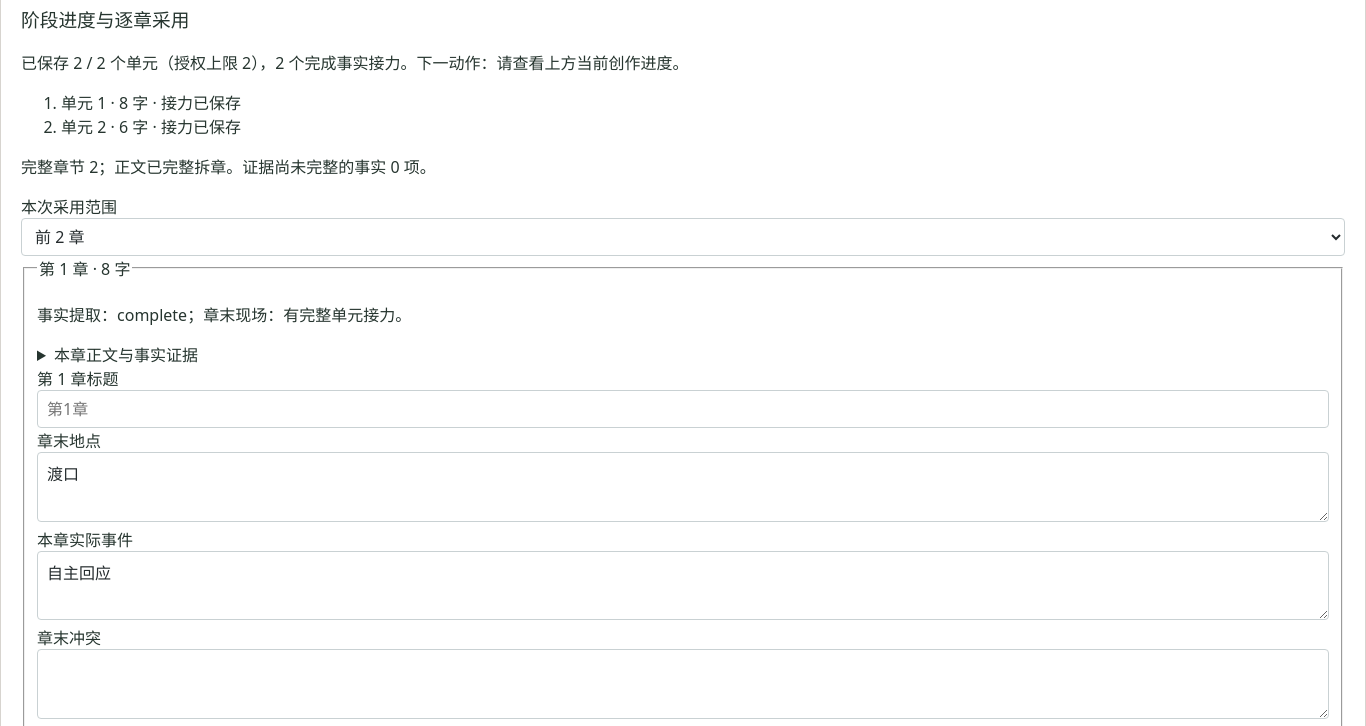
Test: ignores a preview that arrives after the author changes the chapter scene
Select "前 1 章" in the dropdown labelled "本次采用范围" at (683, 237), box [21,218,1345,256]
(page scrolled)
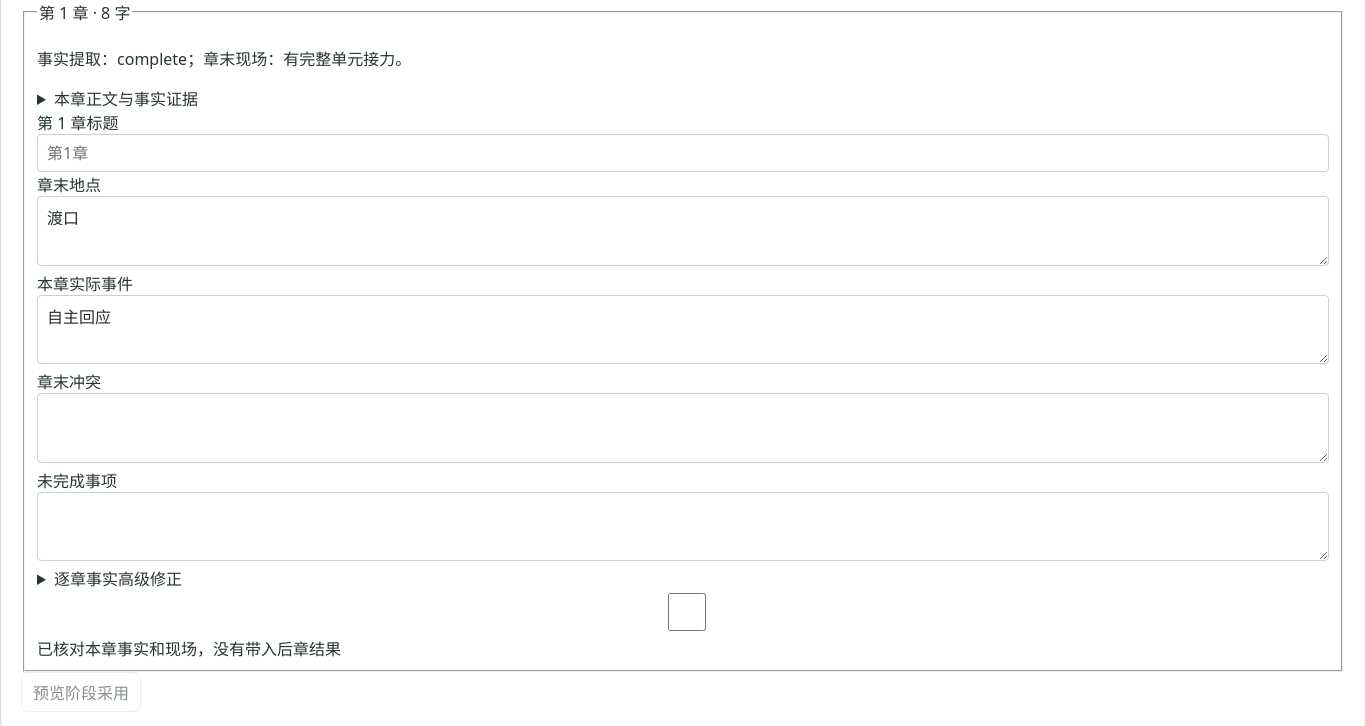
Click the checkbox labelled "已核对本章事实和现场，没有带入后章结果".
click(687, 612)  # box [41,593,1333,631]
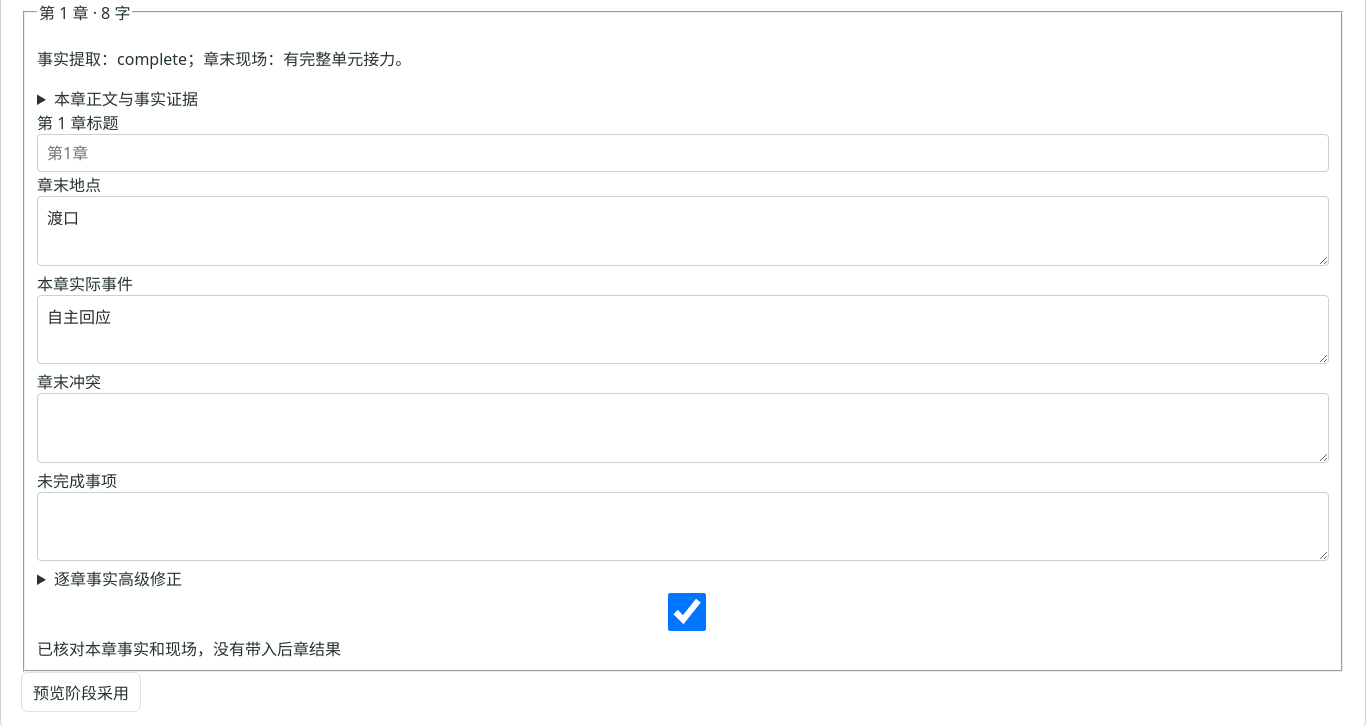
Click the button "预览阶段采用".
click(81, 692)  # box [21,672,141,712]
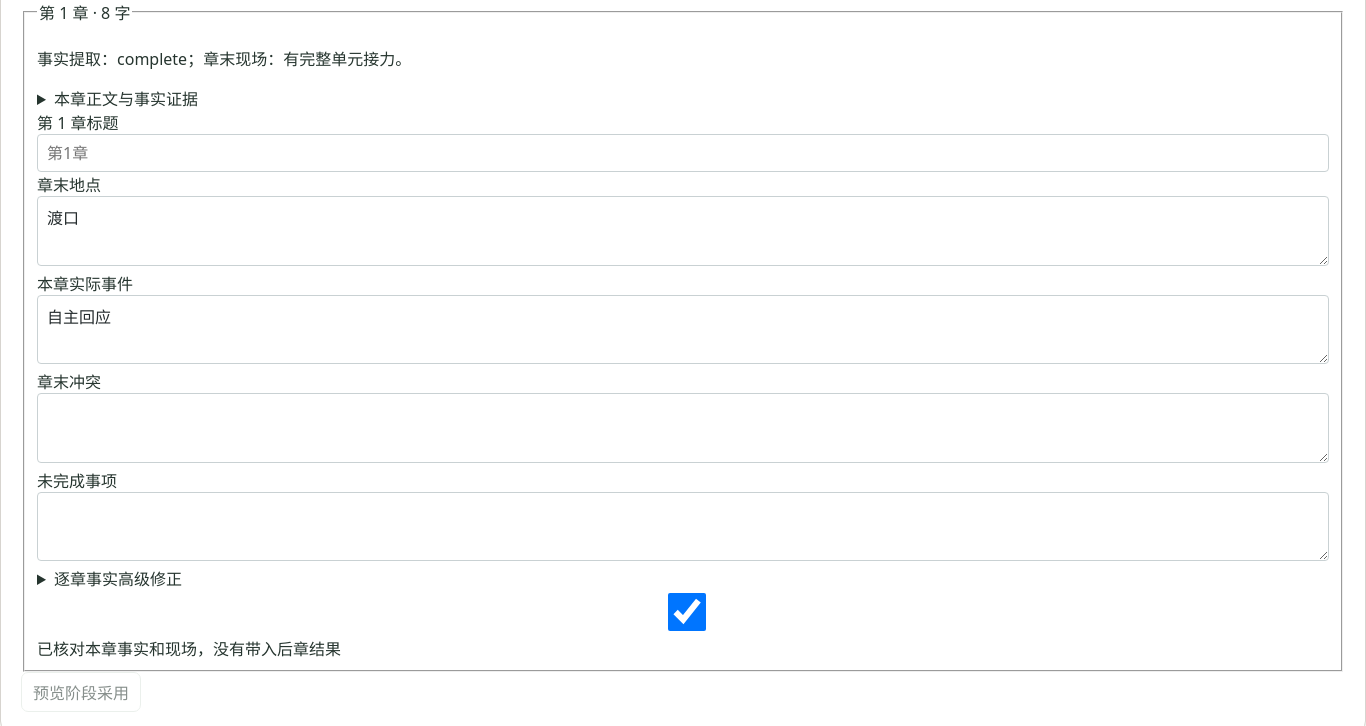
Replace the text in the text box labelled "章末地点" with "码头外" at (683, 231), box [37,196,1329,266]
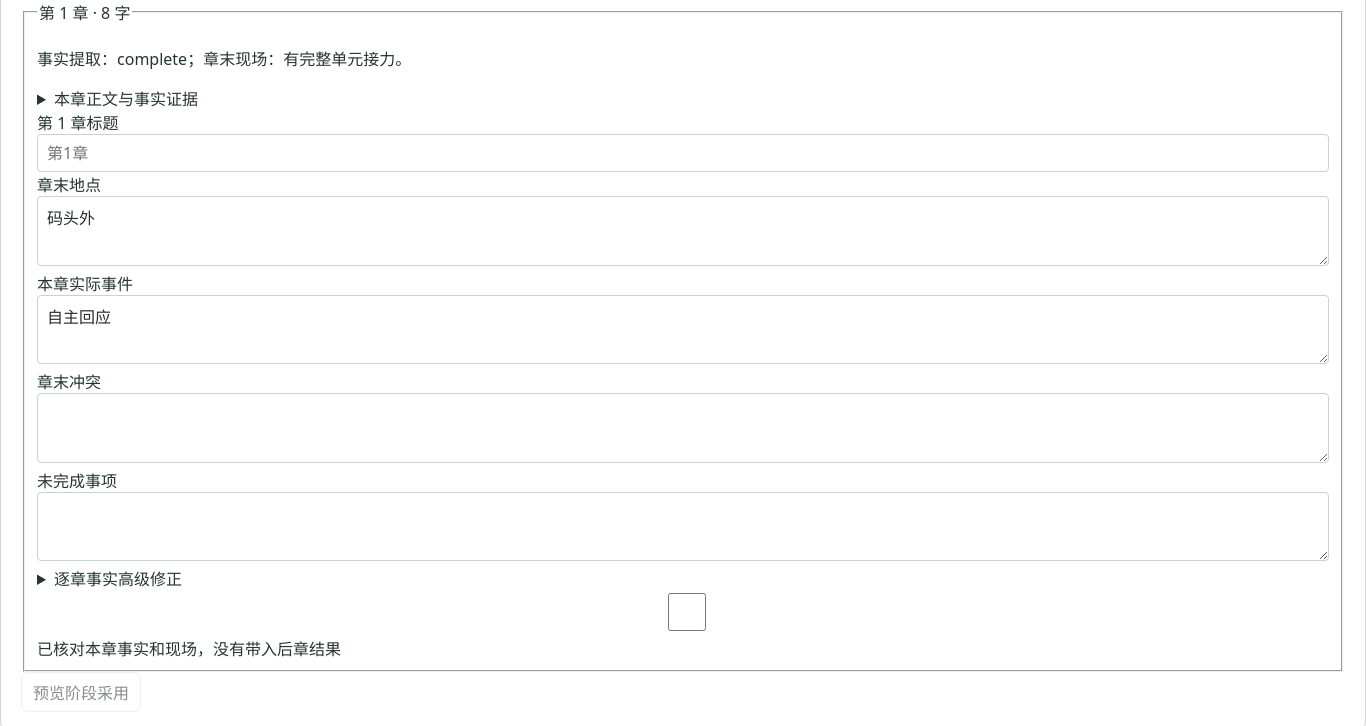
Click the checkbox labelled "已核对本章事实和现场，没有带入后章结果".
click(687, 612)  # box [41,593,1333,631]
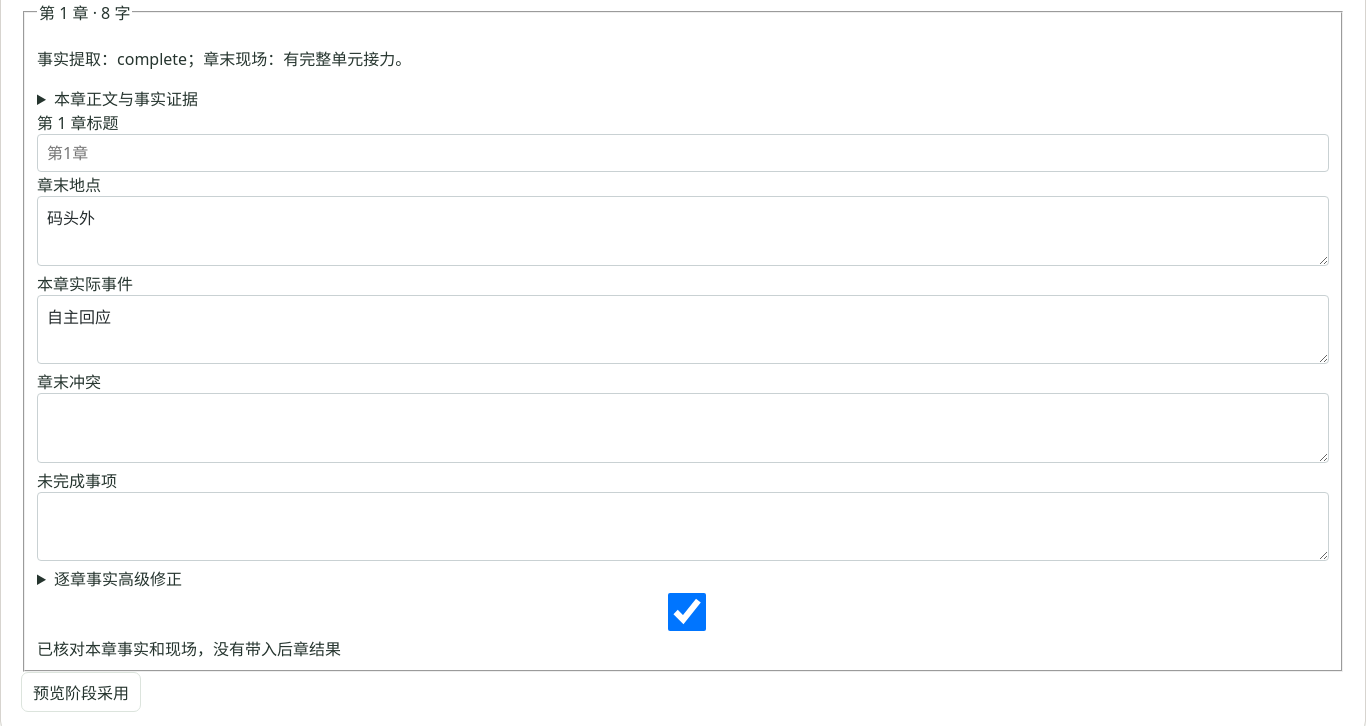
Result: the button "预览阶段采用" is enabled at [21,672,141,712]
